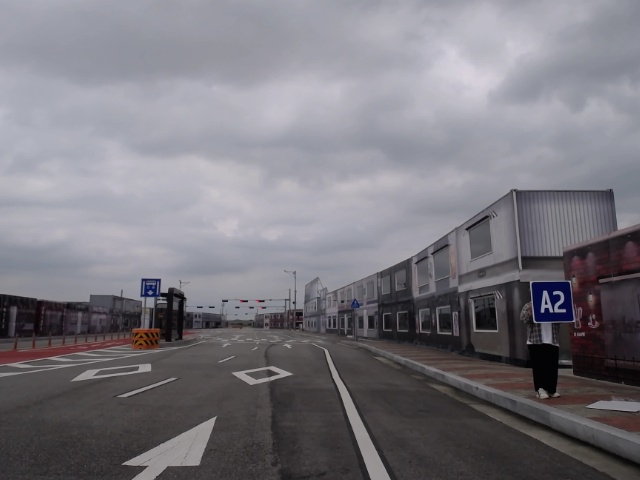delivery_a2: (531, 281, 575, 323)
